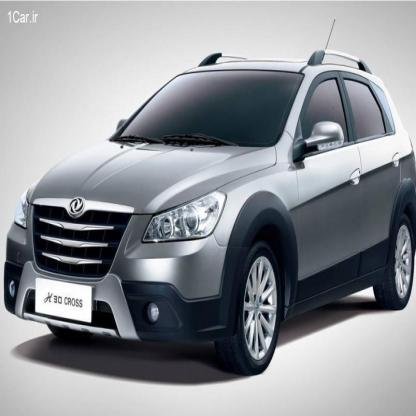Car: (0, 40, 416, 387)
